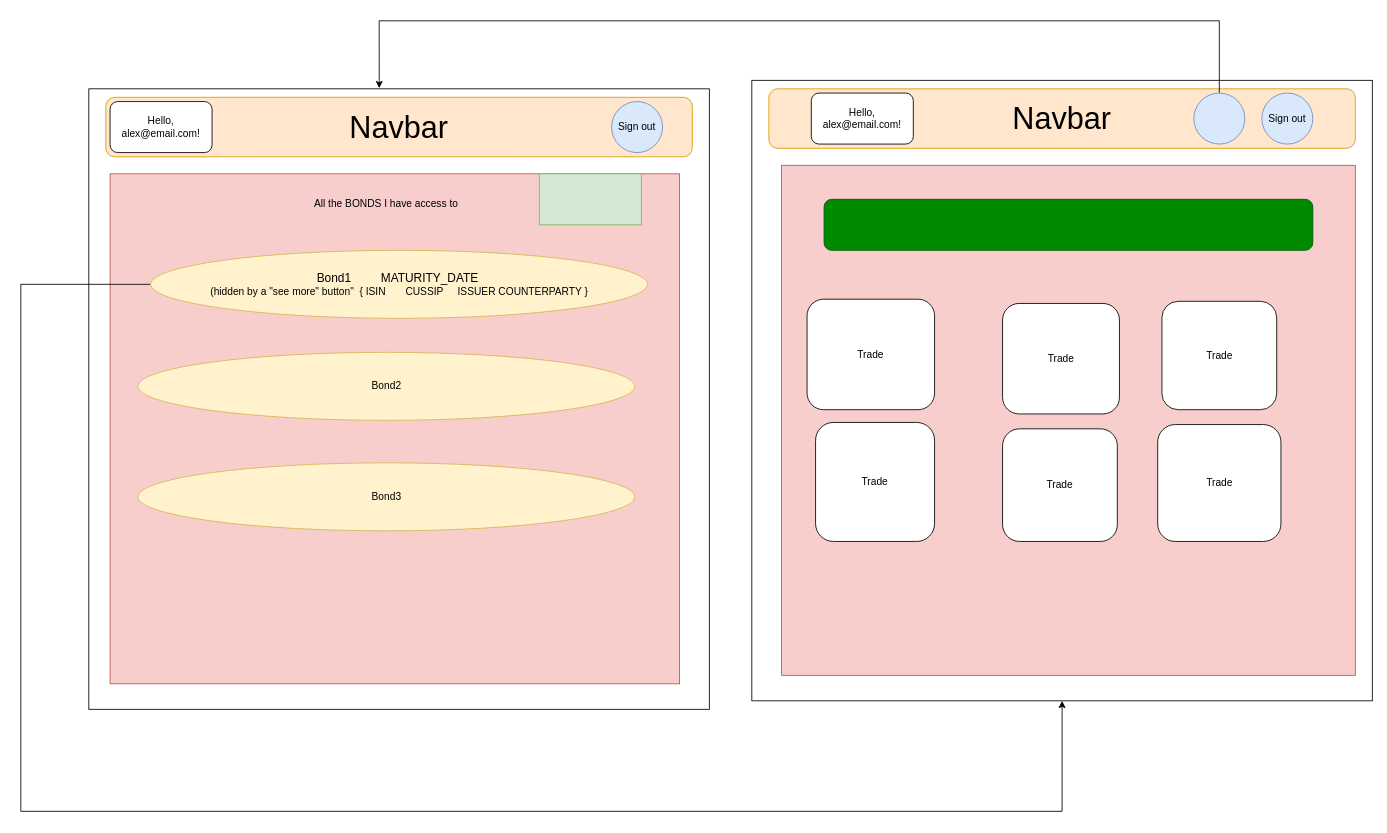
The diagram is 1387 pixels wide and 833 high, and some of its shapes have lost their labels. The centre of each missing label's shape, as x and y in pixels:
Bond1 ISIN CUSSIP ISSUER COUNTERPARTY MATURITY_DATE: the point at 1068,224
Date Picker for BONDS: the point at 589,199
Main Page: the point at 1219,118
